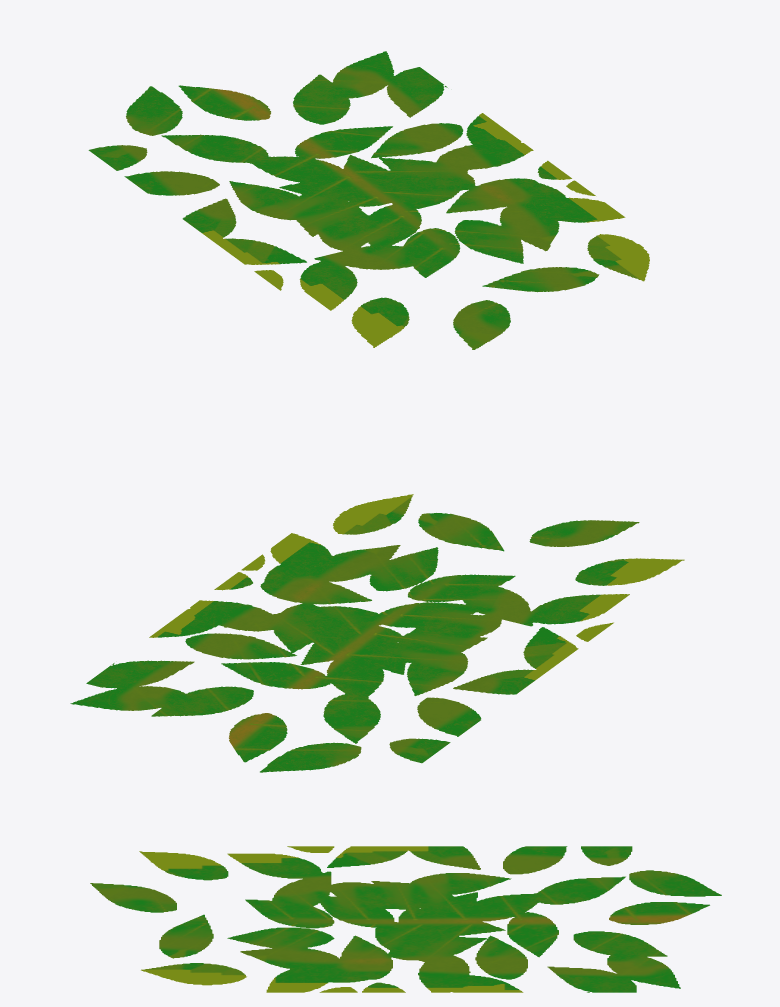
File: Folhagem_01.fbx
3 views of the same model, one above another, from view 1: azimuth 30°, elevation 25°; view 2: azimuth 150°, elevation 25°; view 3: azimuth 270°, elevation 25° (orthographic). The views are drawn at different scales.
Visible parts, largest first — view 1: LOWB; view 2: LOWB; view 3: LOWB.
Boxes of the visible parts, bbox=[...] form: LOWB: bbox=[88, 51, 649, 349]; LOWB: bbox=[70, 494, 684, 772]; LOWB: bbox=[90, 846, 721, 992].
Size of the model in its own units: 2.96 by 0 by 6.41.
